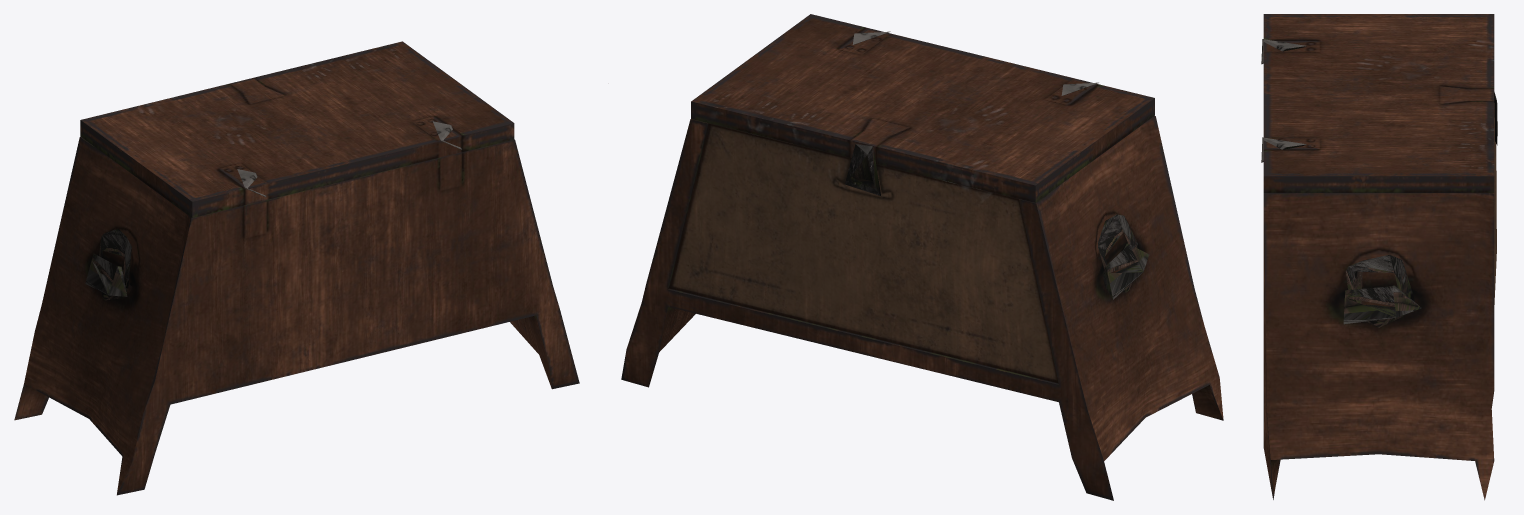
Rendered from Kiste_LOD1.dae.
The picture shows the model from 3 angles, left to right: view 1: azimuth 30°, elevation 25°; view 2: azimuth 150°, elevation 25°; view 3: azimuth 270°, elevation 25°; orthographic projection. The views are drawn at different scales.
Parts seen in each view (by area): view 1: Kiste_LOD1; view 2: Kiste_LOD1; view 3: Kiste_LOD1.
Boxes of the visible parts, left/top/right/bottom form: Kiste_LOD1: left=14, top=41, right=579, bottom=495; Kiste_LOD1: left=621, top=14, right=1223, bottom=500; Kiste_LOD1: left=1261, top=14, right=1497, bottom=500.
Size of the model in its own units: 0.9 by 0.407 by 0.5306.
2 materials, 2 textured.
